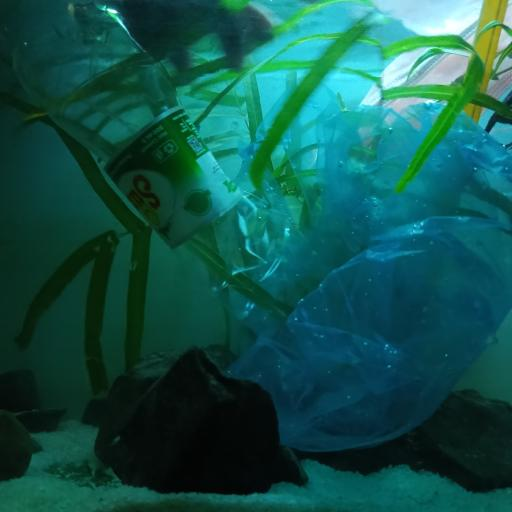mask: (359, 20, 512, 118)
plastic_bag: (226, 70, 512, 454)
plastic_bottle: (1, 0, 295, 328)
plastic_straw: (457, 0, 505, 123)
